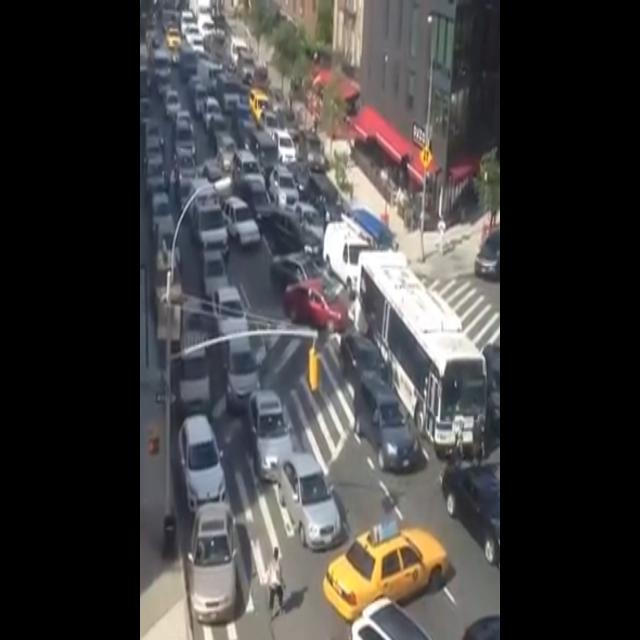Ambulance: (188, 175, 232, 268)
